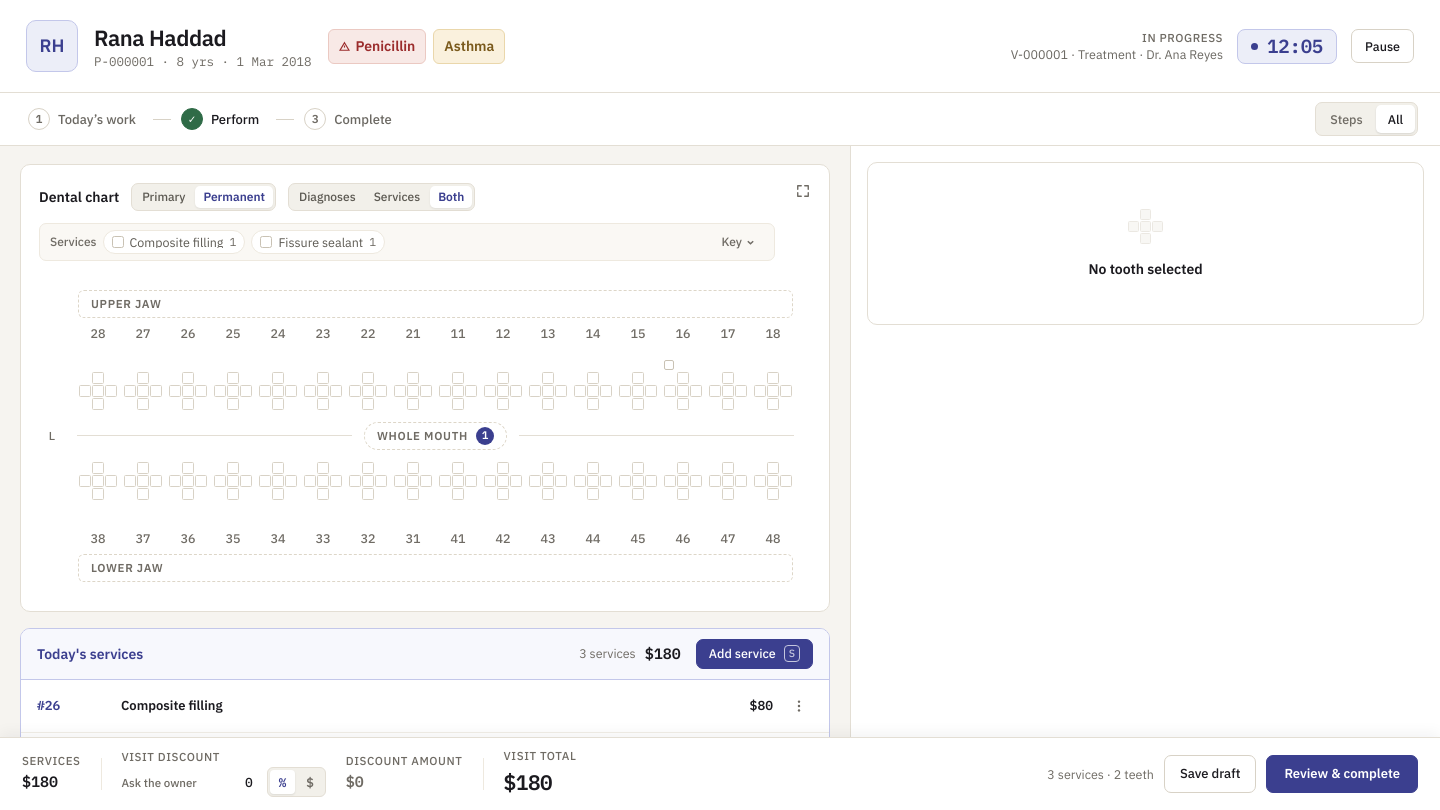
Test: VisitSummaryDialog › keeps the chart keyboard still while open, and Continue editing closes it
Expected: the element named "Upper arch" is shown, [78,324,793,411]
Click the button named "#16 · ". click: (683, 367)
box: [663,324,703,411]
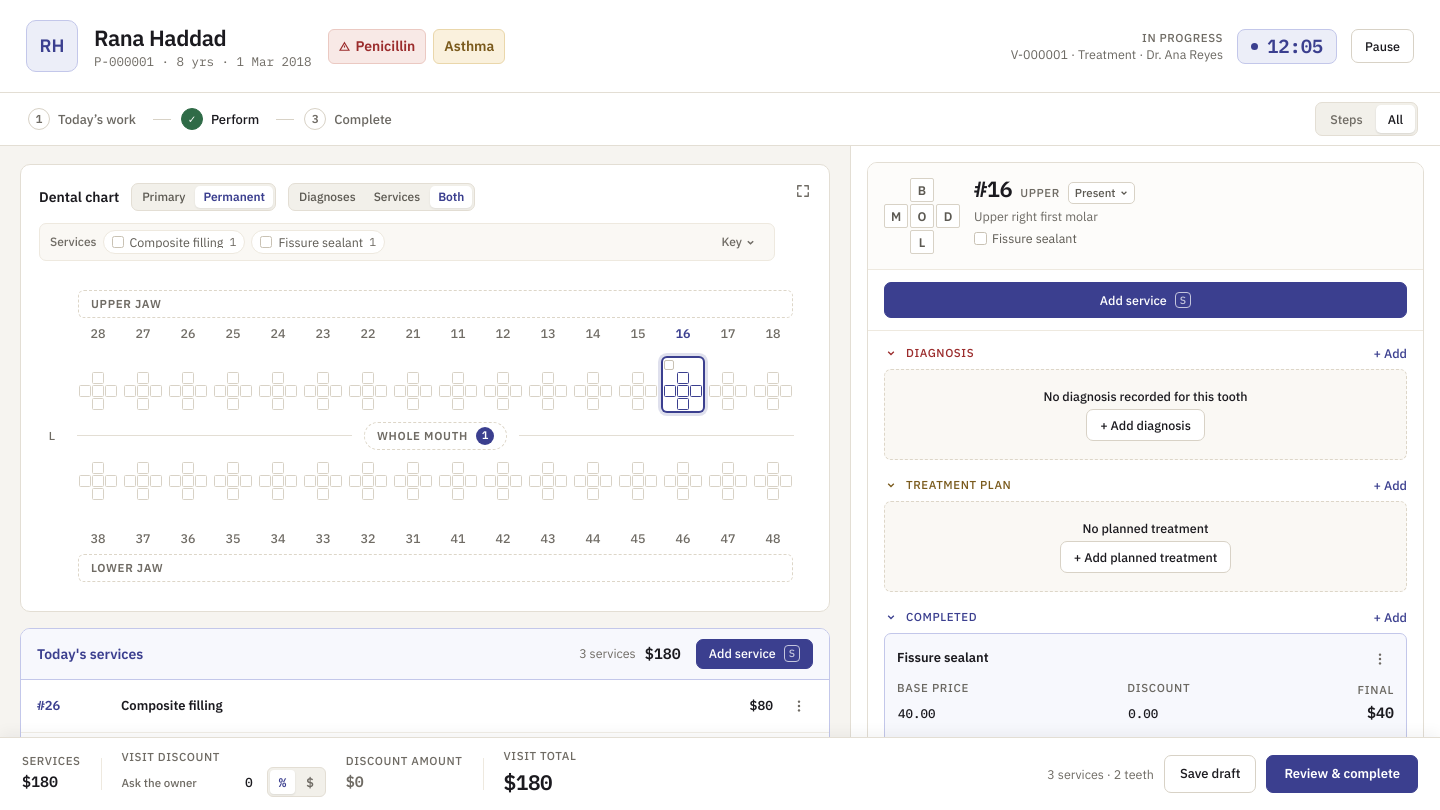
Expected: the element named "Upper arch" is shown, [78,324,793,411]
Click the button "Review & complete". click: (1342, 774)
box: [1266,755,1418,793]
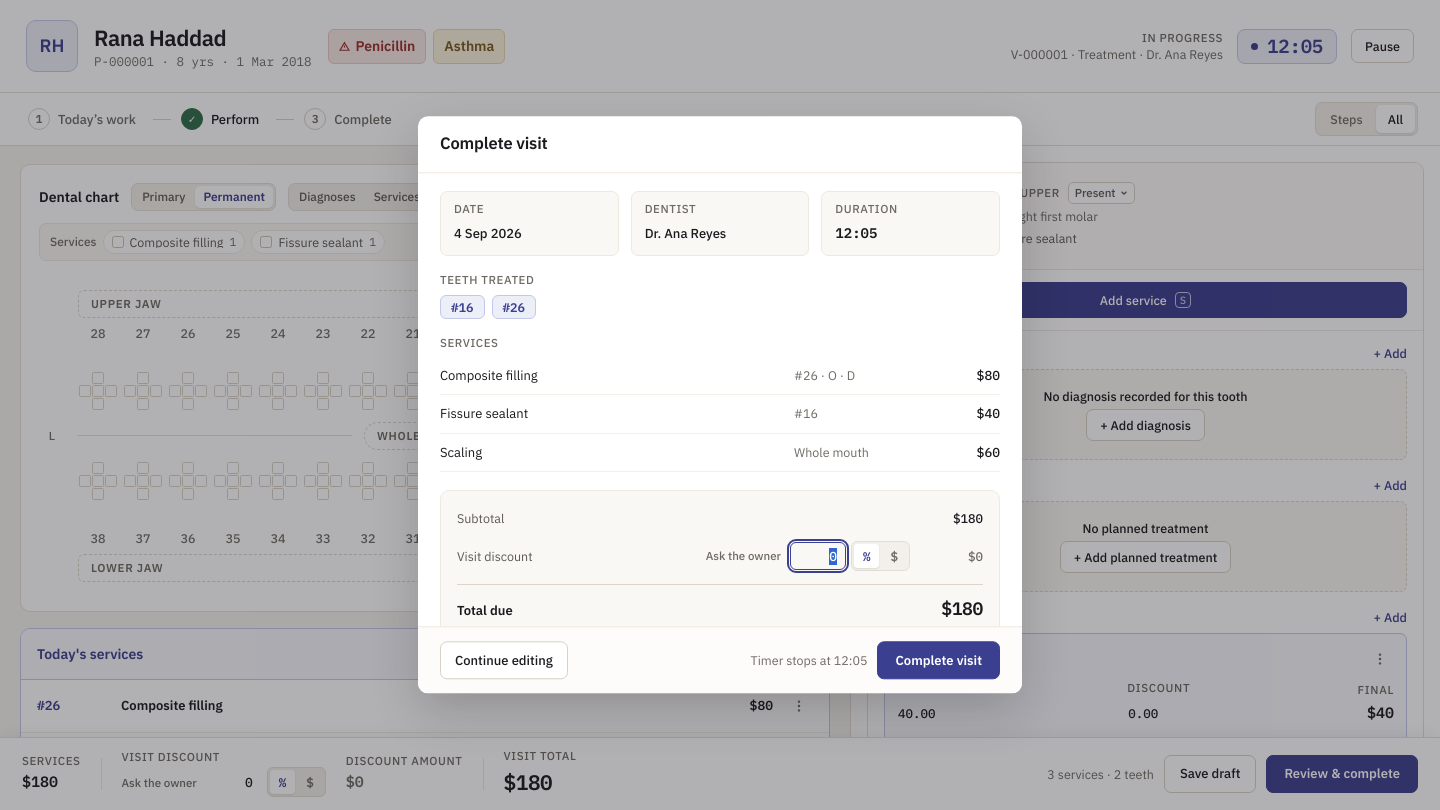
Press ArrowRight
Click the button "Continue editing". click: (504, 661)
box: [440,642,568,680]
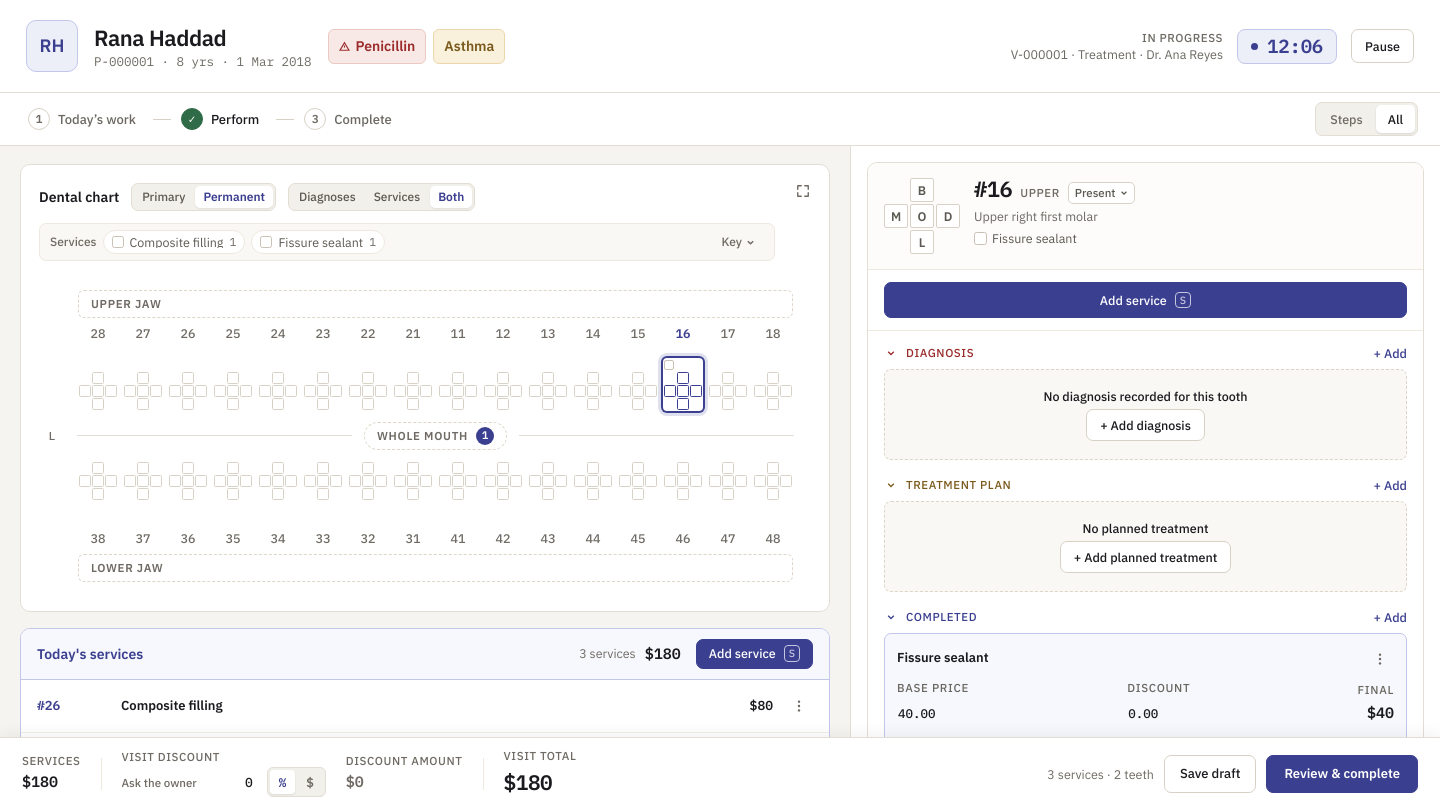
Now the heading "#16" is shown, box [974,178,1012,200]
Now the dialog is gone
